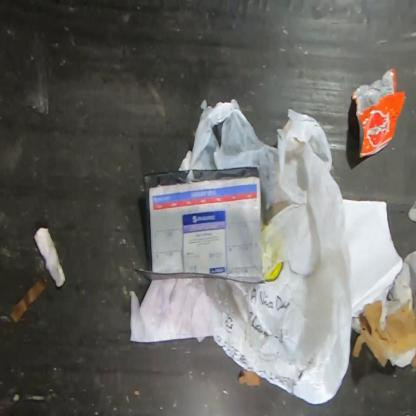cardboard: (352, 298, 415, 371)
soft_plastic: (190, 98, 354, 404), (135, 168, 266, 284), (352, 67, 406, 158)
